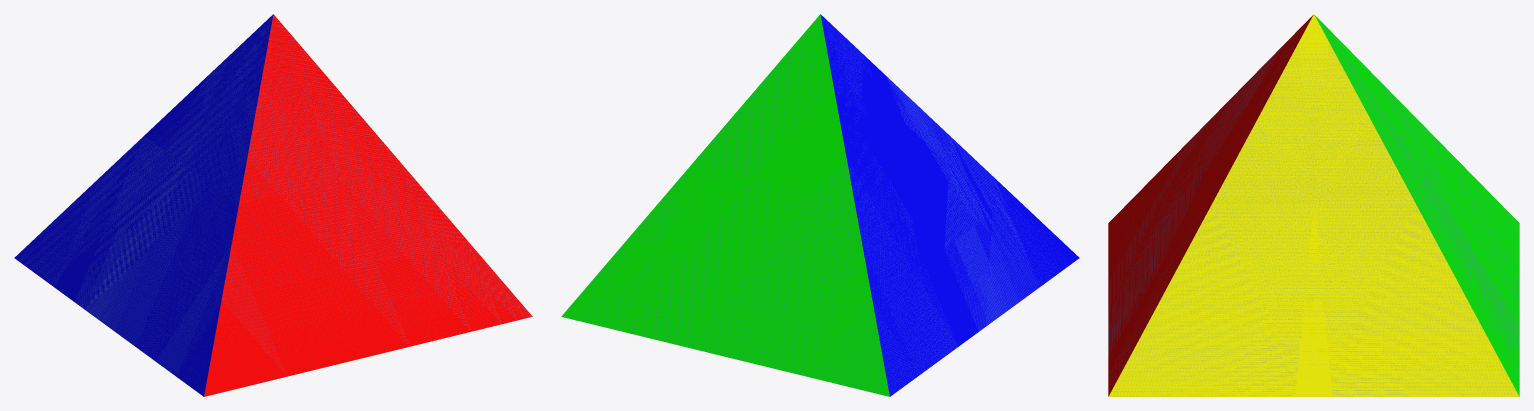
File: 4z piramide, kleuren.dae
3 renders of one model, left to right at view 1: azimuth 30°, elevation 25°; view 2: azimuth 150°, elevation 25°; view 3: azimuth 270°, elevation 25°, orthographic. The views are drawn at different scales.
Visible parts, largest first — view 1: SketchUp (×2); view 2: SketchUp (×2); view 3: SketchUp (×3).
Boxes of the visible parts, x1,y1,x2,y2 form: SketchUp (×2): (14, 14, 532, 396); SketchUp (×2): (561, 14, 1079, 396); SketchUp (×3): (1108, 14, 1519, 396).
Bounding box in the file's own units: 151 × 151 × 120.
